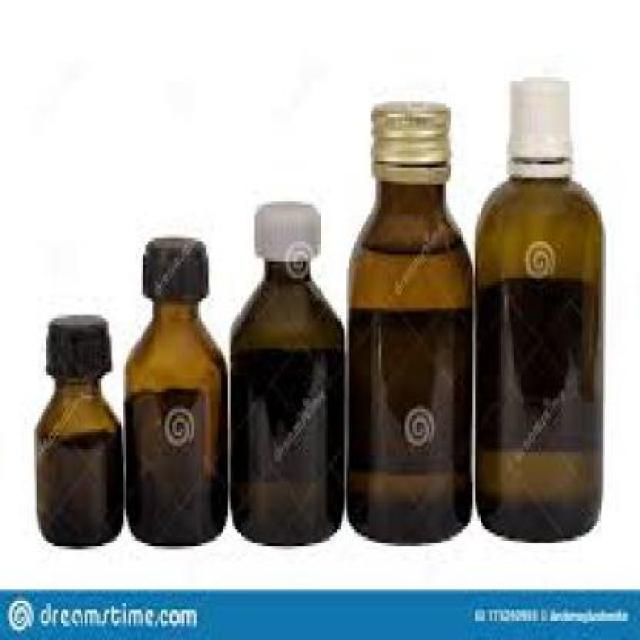kaca: (472, 174, 602, 540), (346, 177, 471, 543), (228, 259, 344, 543), (125, 295, 226, 543), (34, 376, 121, 546)
